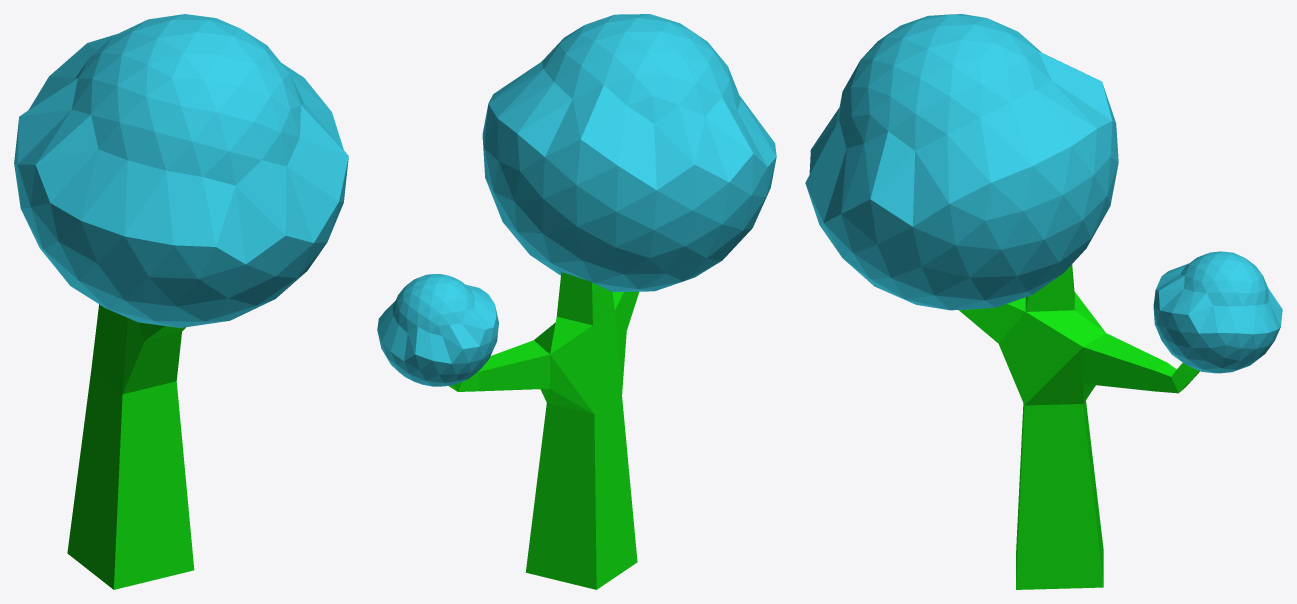
File: SweerTrees6.fbx
3 renders of one model, left to right at view 1: azimuth 30°, elevation 25°; view 2: azimuth 150°, elevation 25°; view 3: azimuth 270°, elevation 25°, orthographic. The views are drawn at different scales.
Visible parts, largest first — view 1: Icosphere.006, Cube.006; view 2: Icosphere.006, Cube.006, Icosphere.007; view 3: Icosphere.006, Cube.006, Icosphere.007.
Boxes of the visible parts, x1,y1,x2,y2 form: Icosphere.006: (14, 14, 348, 327); Cube.006: (67, 304, 194, 589); Icosphere.006: (482, 14, 776, 291); Cube.006: (449, 272, 639, 589); Icosphere.007: (377, 274, 498, 386); Icosphere.006: (805, 14, 1118, 310); Cube.006: (959, 264, 1199, 589); Icosphere.007: (1153, 251, 1282, 373).
Bounding box in the file's own units: 1.51 × 2.88 × 2.29.
